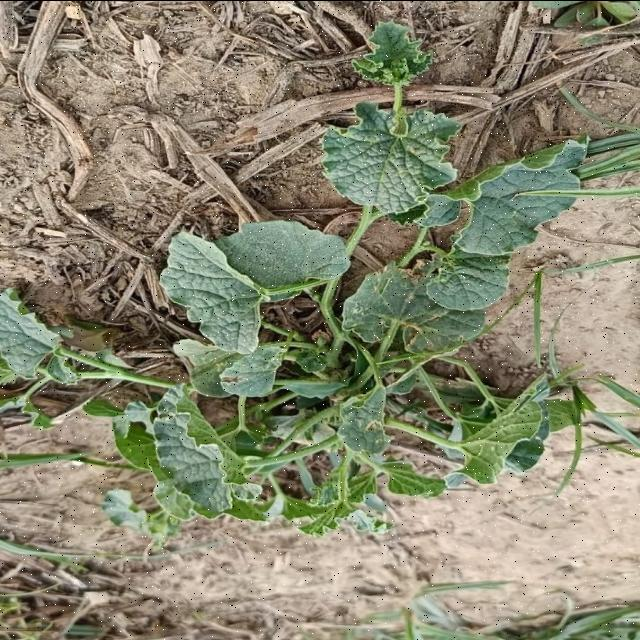plant: (0, 21, 638, 539)
